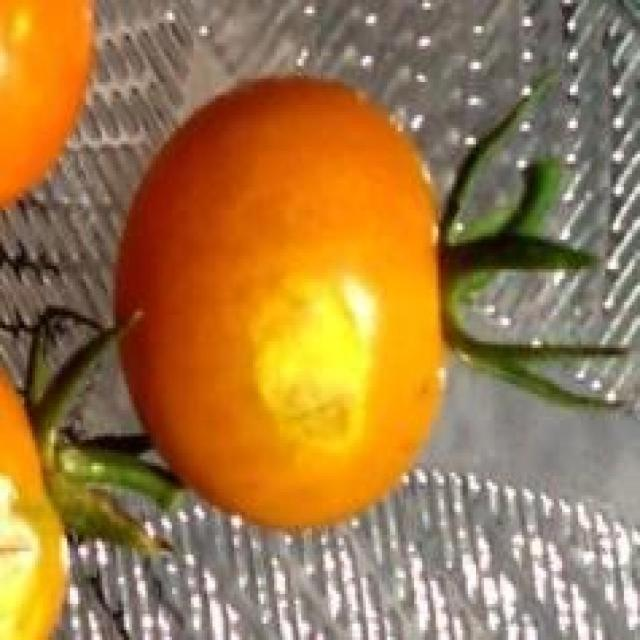Sunscald Fruit: (150, 153, 248, 304)
